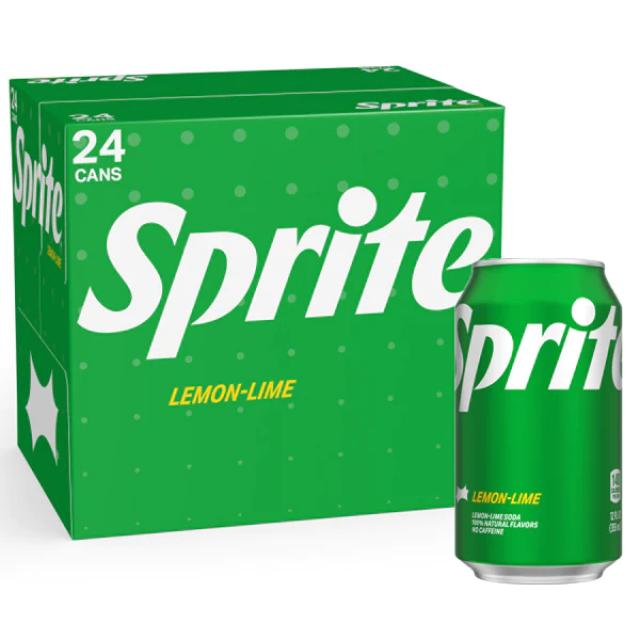sprite: (451, 256, 627, 593)
